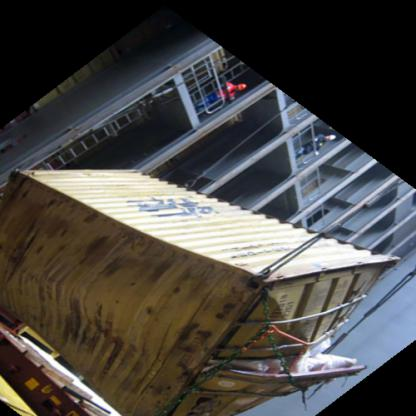Damage: (52, 231, 245, 300), (207, 325, 361, 407), (36, 295, 144, 374)
